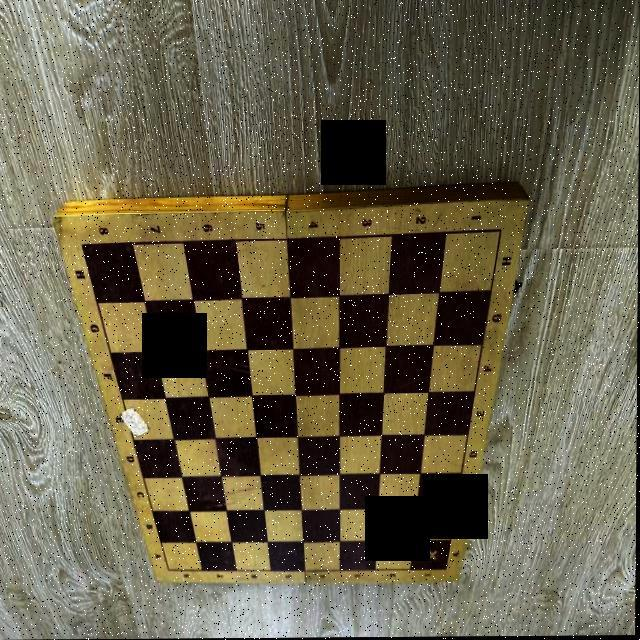chess-table-corners: (496, 224, 508, 238), (76, 239, 88, 252), (442, 564, 451, 576), (165, 565, 175, 575)
